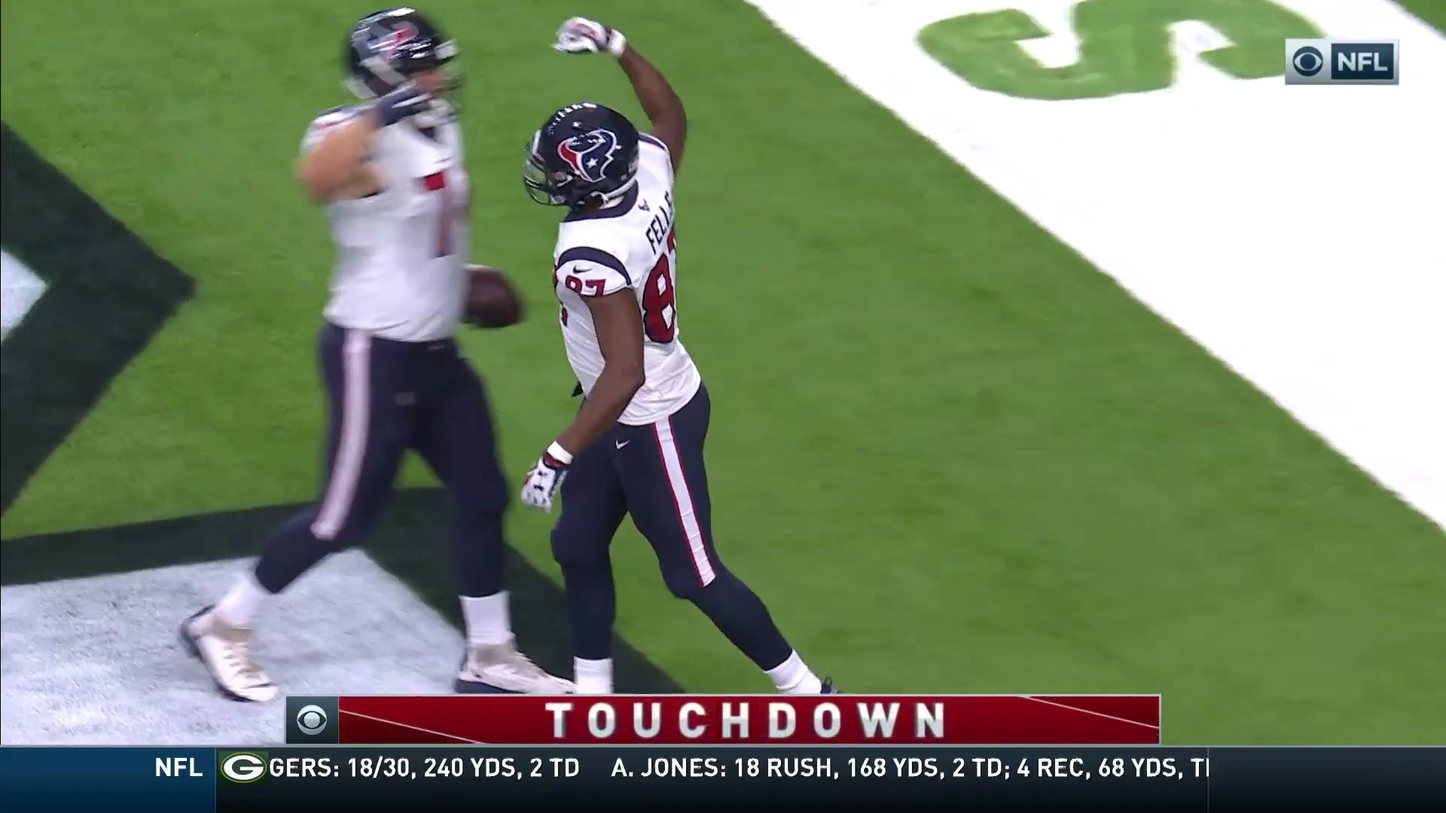Player: (285, 0, 476, 496), (549, 105, 713, 560)
